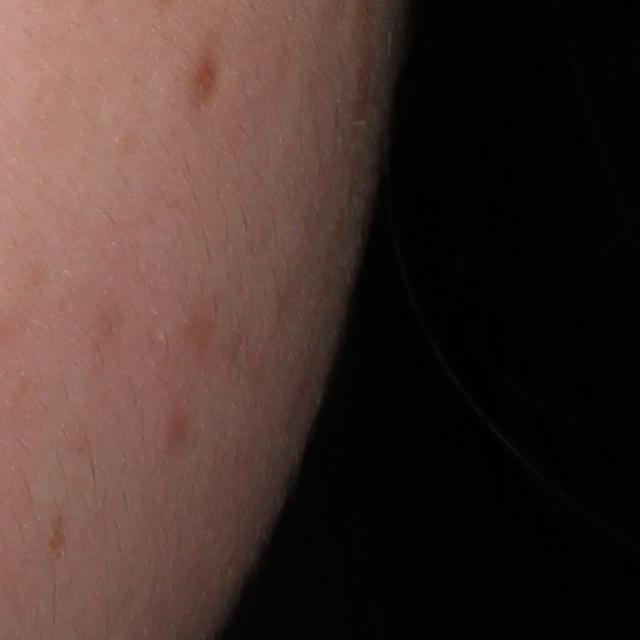papule: (158, 408, 187, 451)
